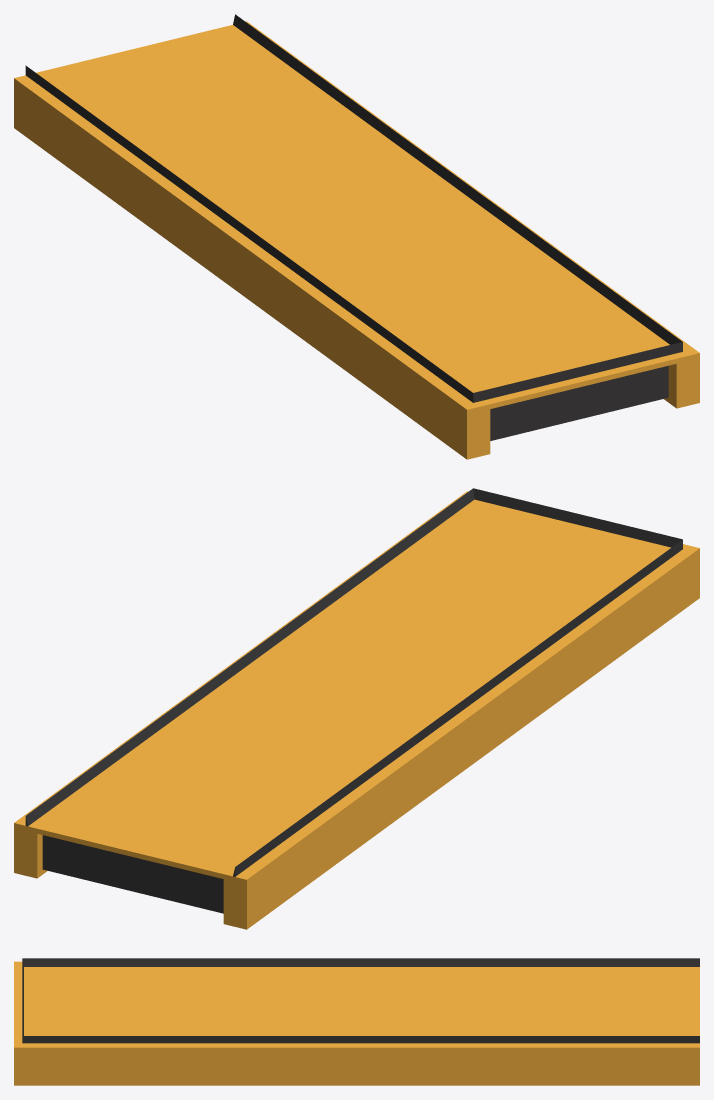
File: Plattform_1.fbx
The picture shows the model from 3 angles, top to bottom: view 1: azimuth 30°, elevation 25°; view 2: azimuth 150°, elevation 25°; view 3: azimuth 270°, elevation 25°; orthographic projection. The views are drawn at different scales.
Visible parts, largest first — view 1: Plattform_1; view 2: Plattform_1; view 3: Plattform_1.
Part boxes in pixels (left/top/right/bottom): Plattform_1: left=14, top=14, right=699, bottom=459; Plattform_1: left=14, top=488, right=699, bottom=929; Plattform_1: left=14, top=958, right=699, bottom=1085.
Bounding box in the file's own units: 244 × 60 × 823.
